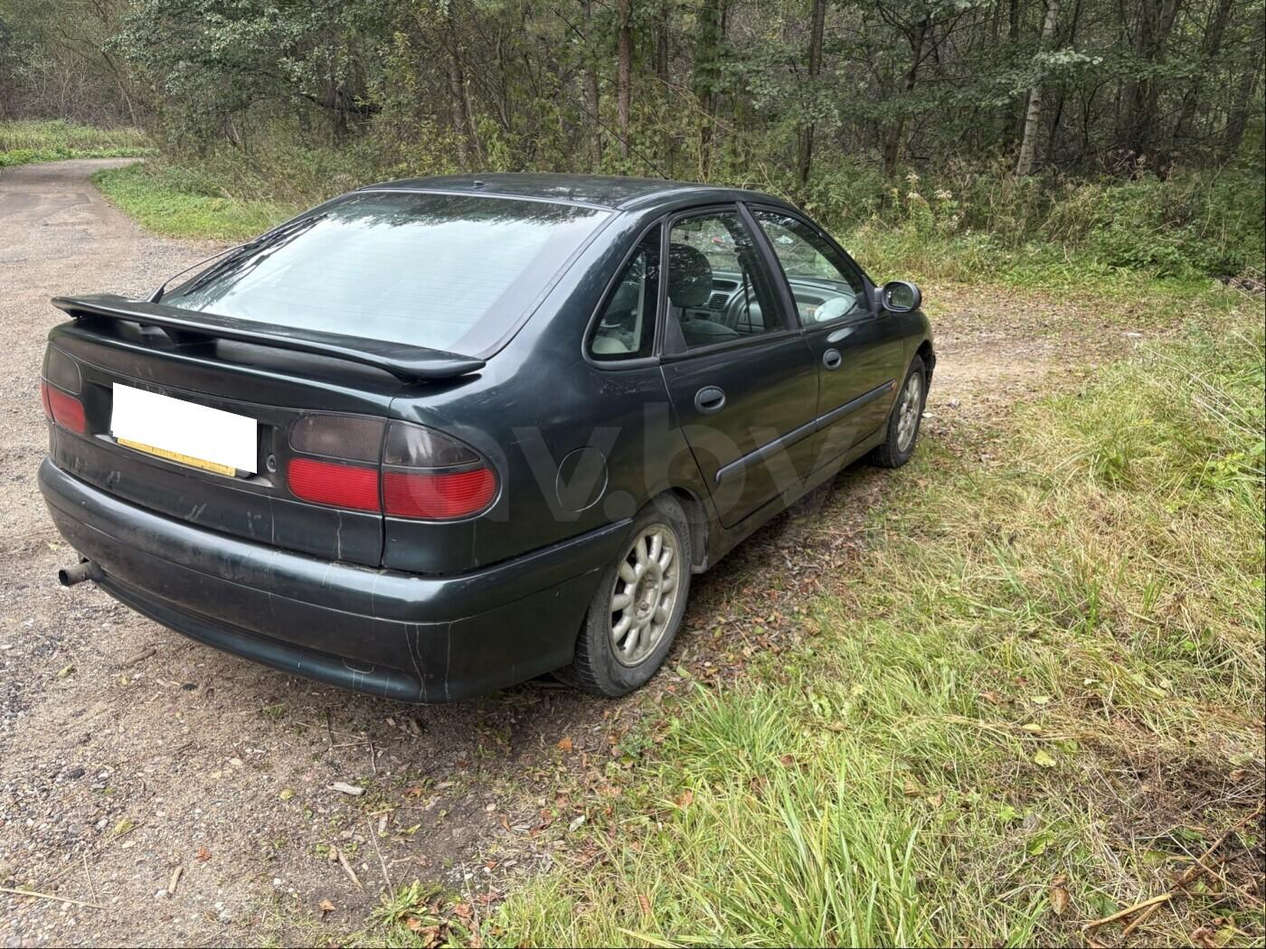Lahuna_1993-1999: (32, 167, 947, 706)
